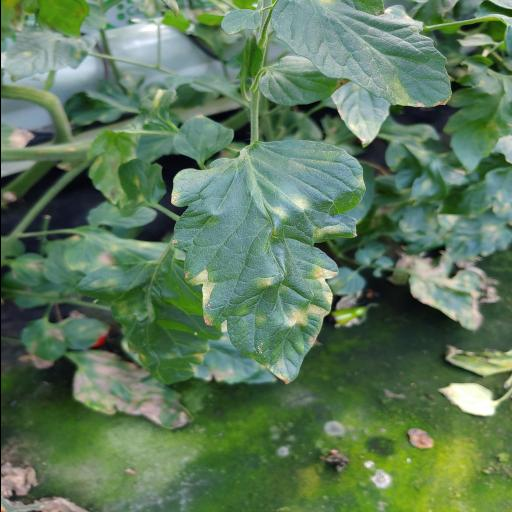Leaf Mold: (169, 139, 365, 384), (271, 0, 452, 108)
